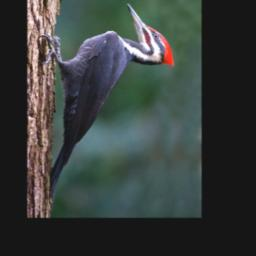Woodpecker: (37, 3, 174, 215)
